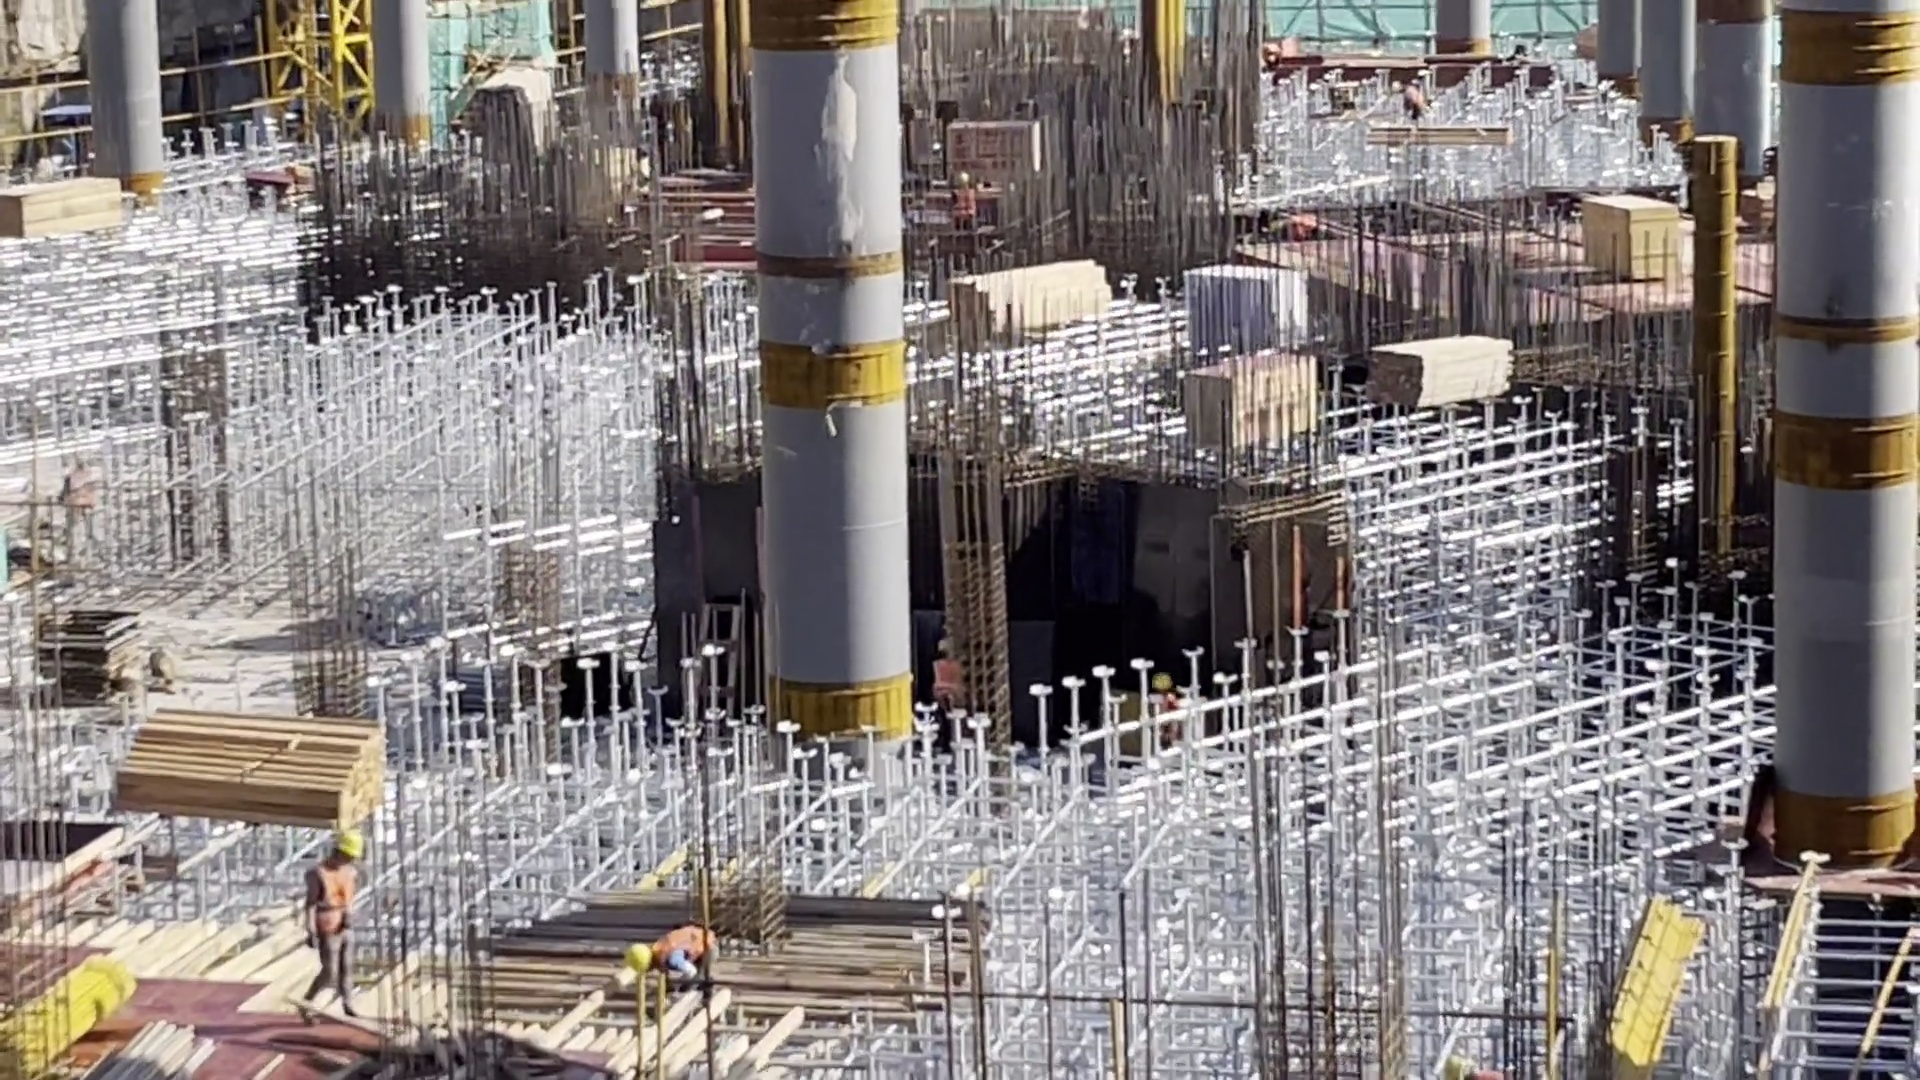board: (41, 599, 143, 705), (1576, 190, 1681, 287)
helmet: (620, 930, 656, 979), (330, 827, 369, 865), (1150, 668, 1176, 702), (934, 630, 959, 661), (951, 172, 971, 192)
person: (305, 820, 381, 1006), (622, 920, 736, 1004), (923, 636, 968, 733), (950, 174, 981, 254)
vest: (313, 862, 368, 947), (657, 919, 726, 974), (930, 662, 966, 708), (950, 188, 978, 227)
wood: (113, 709, 408, 831), (1359, 324, 1513, 420), (956, 251, 1119, 337)
